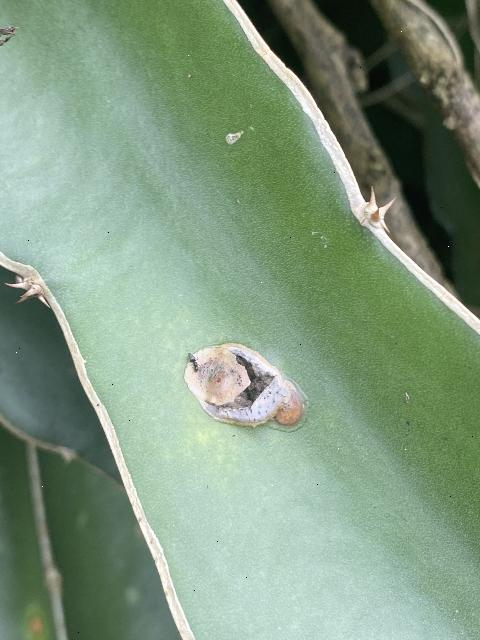stemcanker: (180, 339, 312, 432)
